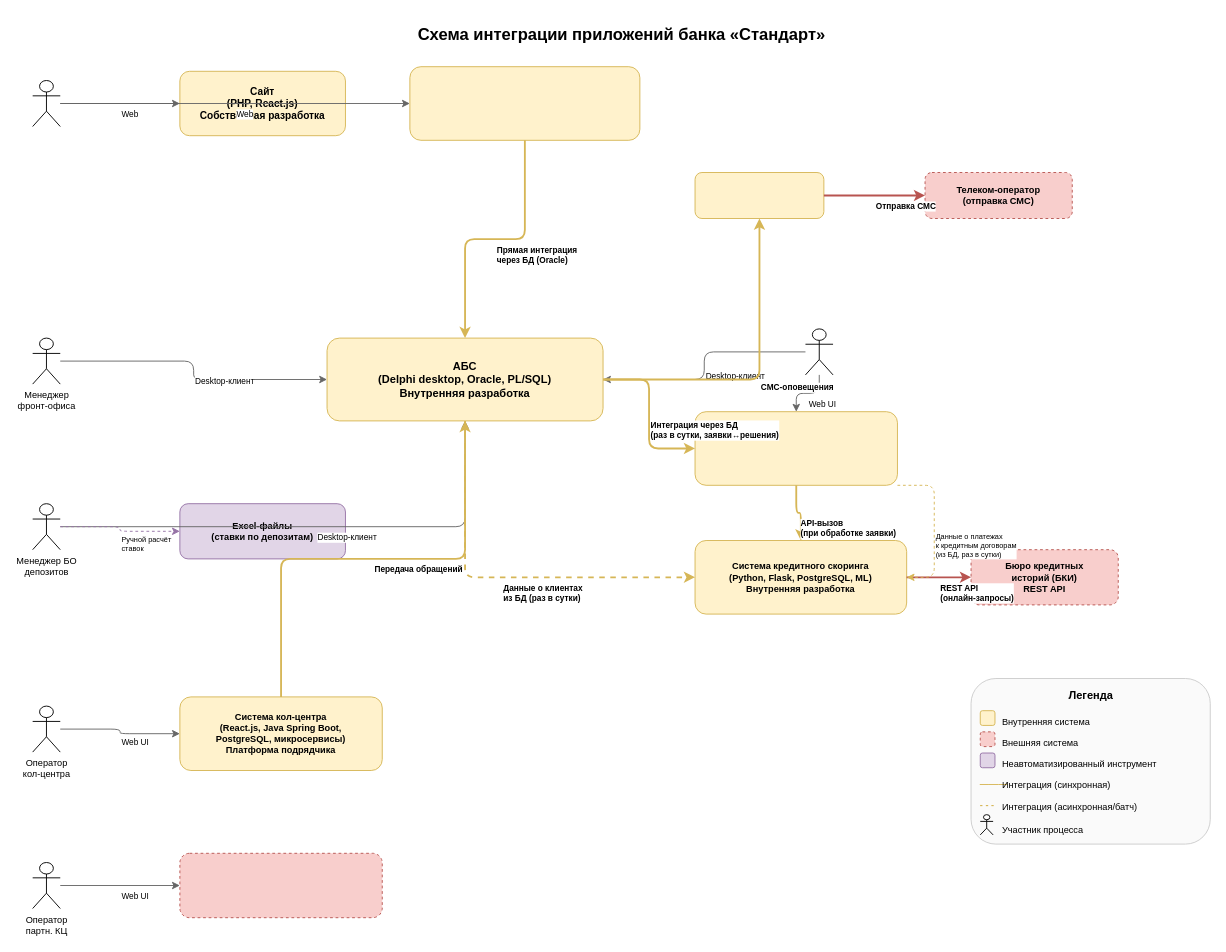
The diagram is 1226 pixels wide and 952 high, and some of its shapes have lost their labels. Here are the shapes that lost their labels. From the top down, the centre of each, then its label:
point (46, 103): Клиент
point (524, 103): Интернет-банк (ASP.NET MVC 4.5, MS SQL) Монолит, платформа подрядчика
point (759, 195): СМС-шлюз
point (819, 351): Менеджер БО кредитов
point (795, 448): Кредитный конвейер (Camunda BPM, Oracle, Java) Коробочное решение
point (280, 885): Система партнёрского кол-центра (внешняя система)
